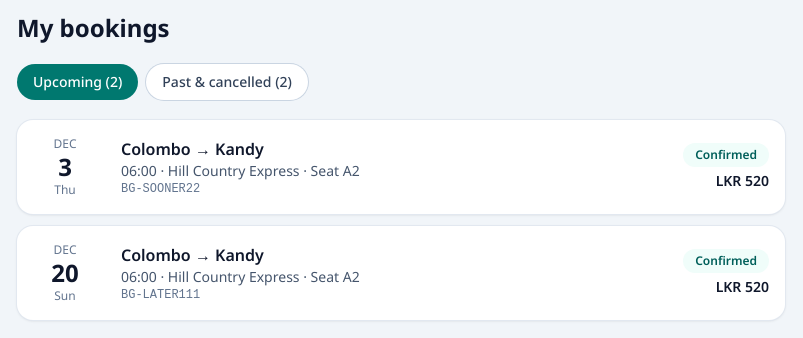
it: MyBookingsPage › shows past and cancelled trips in the other tab
Click the tab "Past & cancelled (2)": (227, 82) [146,64,308,100]
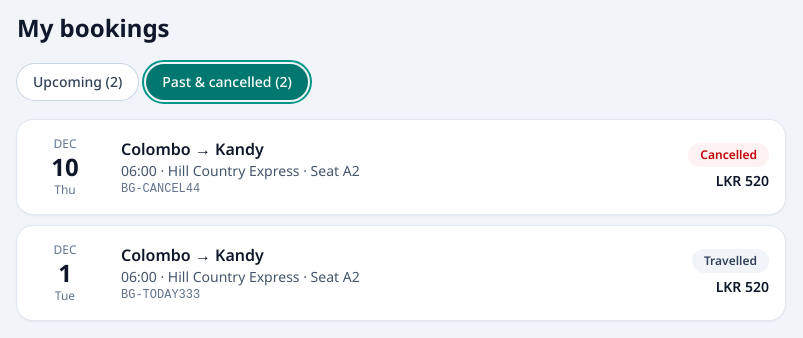
Now the text "Cancelled" is shown, box [688,143,769,167]
Now the text "Travelled" is shown, box [692,249,769,273]
